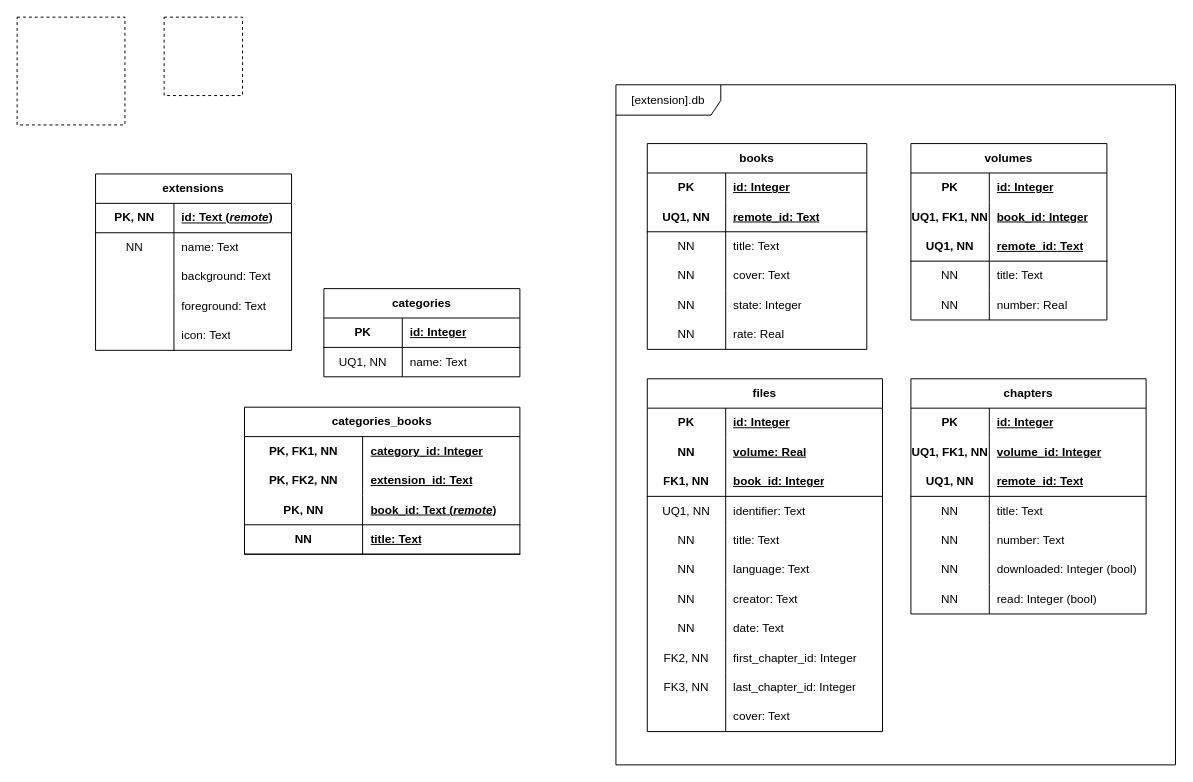
This 1193x782 diagram has some shape labels left out. The centre of each missing label's shape, as x and y in pixels:
Keys PK = Primary Key FK = Foreign Key NN = Not Null UQ = Unique: point (70, 70)
States 0 = Unknow 1 = On going 2 = Completed 3 = Paused: point (203, 56)
